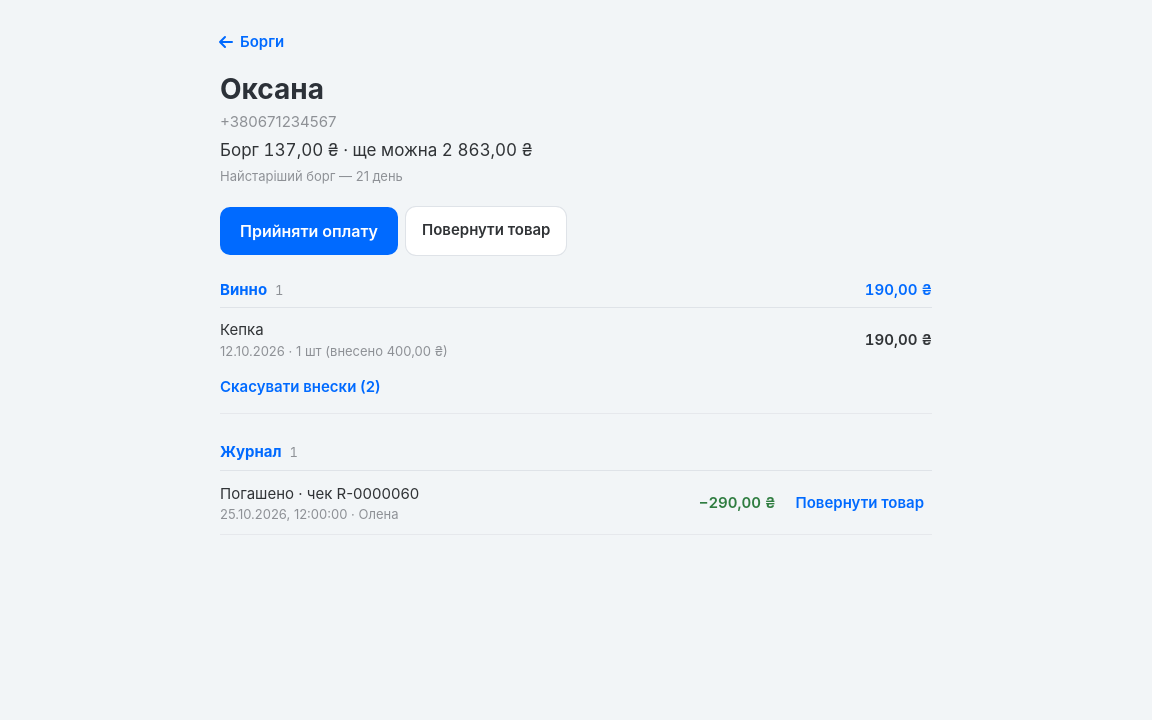
Test: one customer’s statement › gives a chain back whole: «Скасувати внески (N)» under its line, «Повернути товар» on the payment that closed one
This screenshot has width=1152, height=720.
expect the heading "Оксана" is shown: met, box top-left (220, 72), bottom-right (324, 106)
What coordinates should you click on to do the following:
click the button with test id "debts-cancel-prepayments-2"
I would click on:
 (300, 387)
Its box is top-left (220, 365), bottom-right (381, 409).
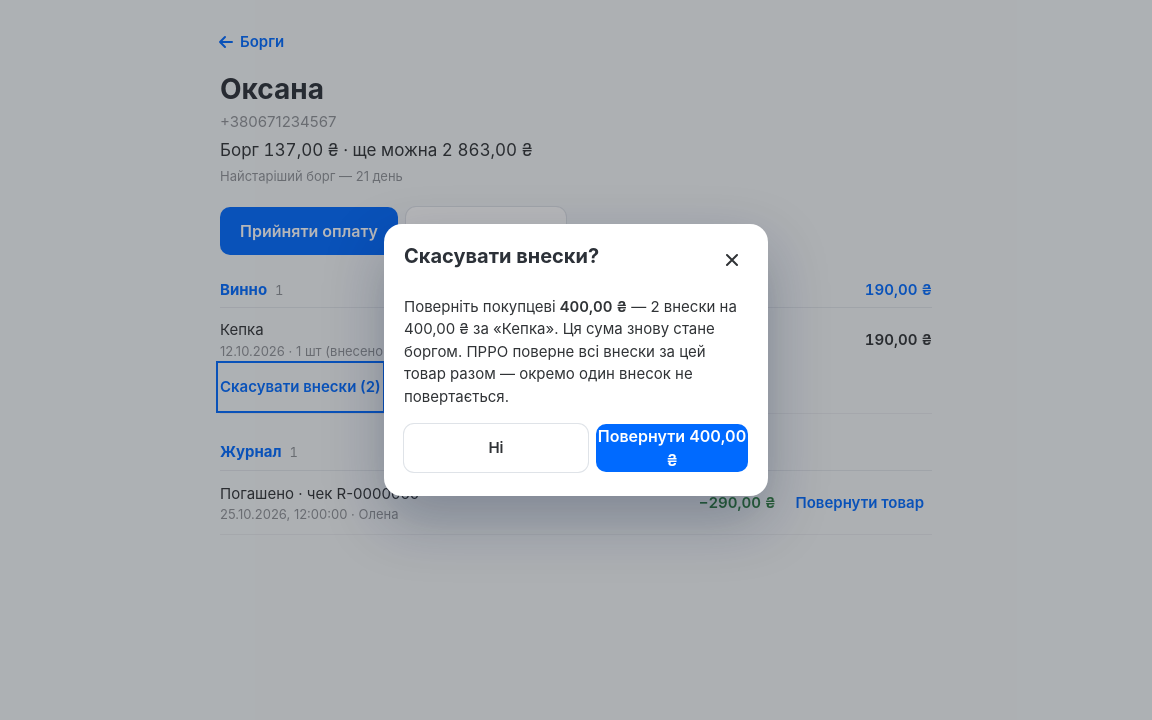
expect the dialog with test id "debts-cancel-prepayments" shows "2 внески": met, box top-left (404, 297), bottom-right (737, 338)
What coordinates should you click on to do the following:
click the button "Ні"
I would click on:
 (496, 448)
Its box is top-left (404, 424), bottom-right (588, 472).
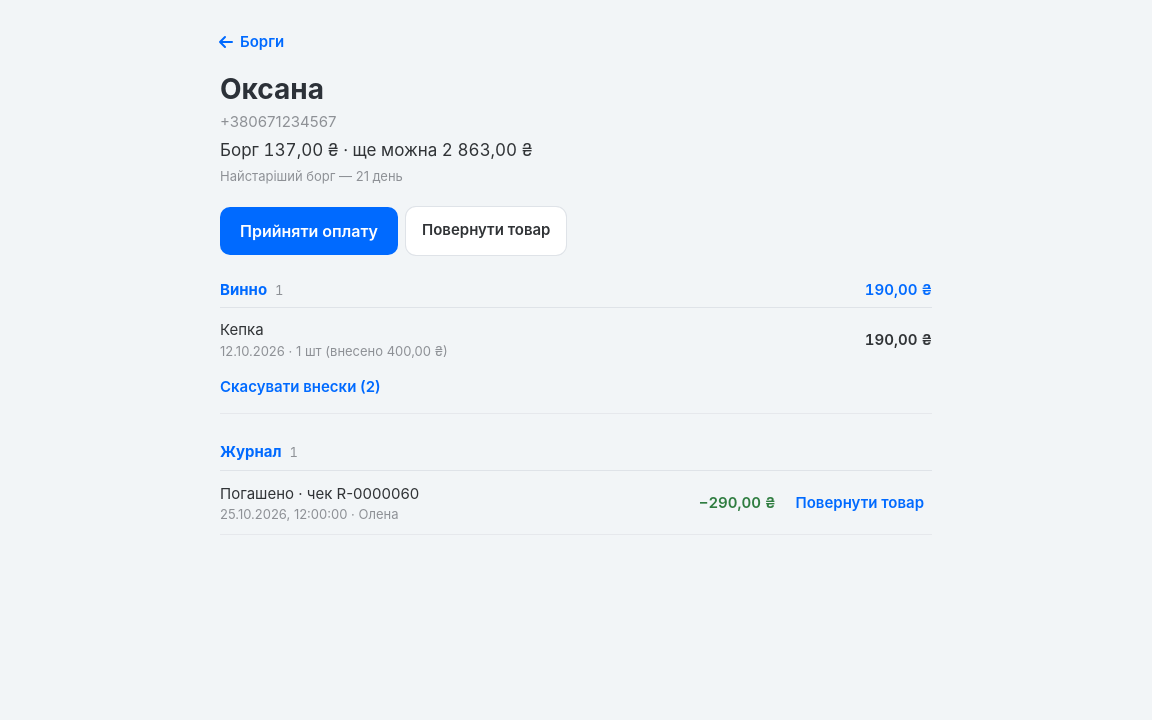
What coordinates should you click on to do the following:
click the button with test id "debts-chain-return-9"
I would click on:
 (860, 504)
Its box is top-left (788, 482), bottom-right (932, 526).
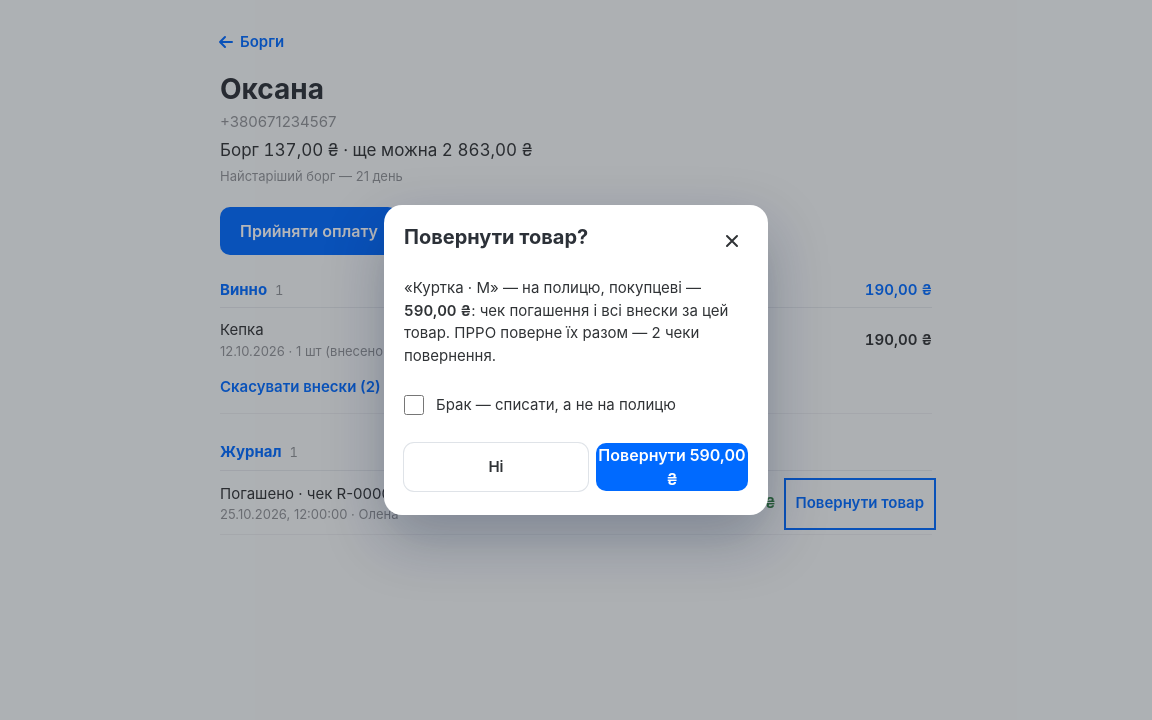
expect the dialog with test id "debts-chain-return" shows "«Куртка · M» — на полицю": met, box top-left (384, 205), bottom-right (768, 515)
